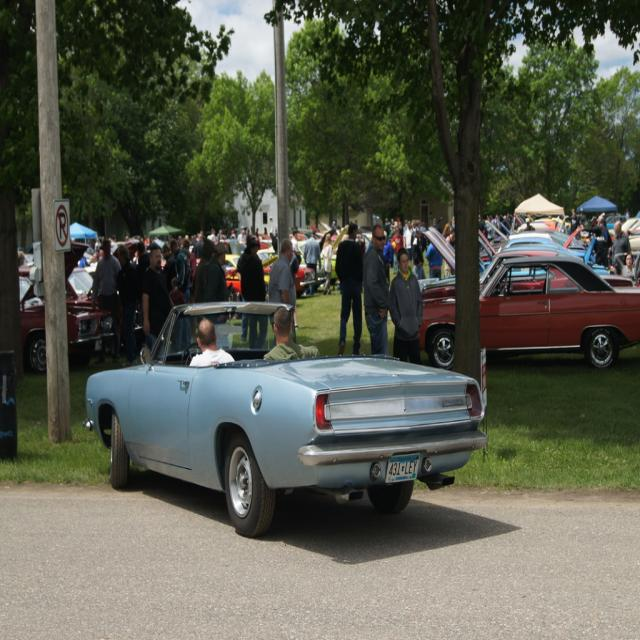car: (87, 306, 488, 532)
